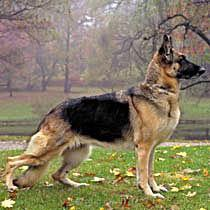German_shepherd: (6, 31, 204, 199)
